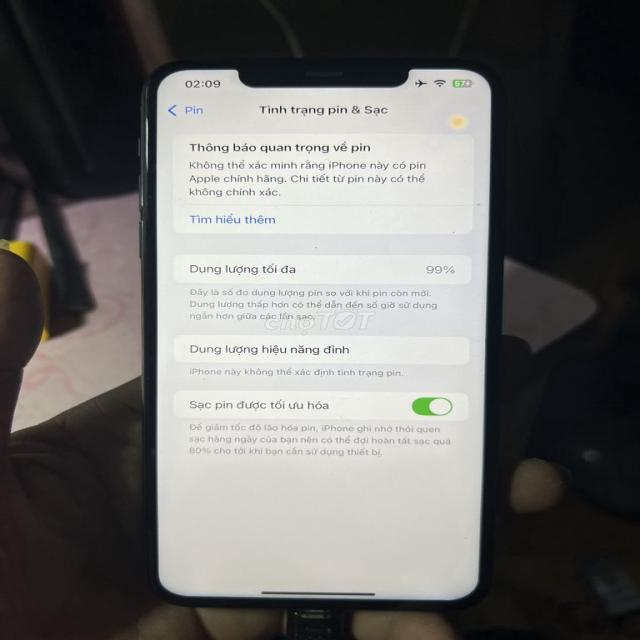screen_defect: (425, 88, 484, 172)
